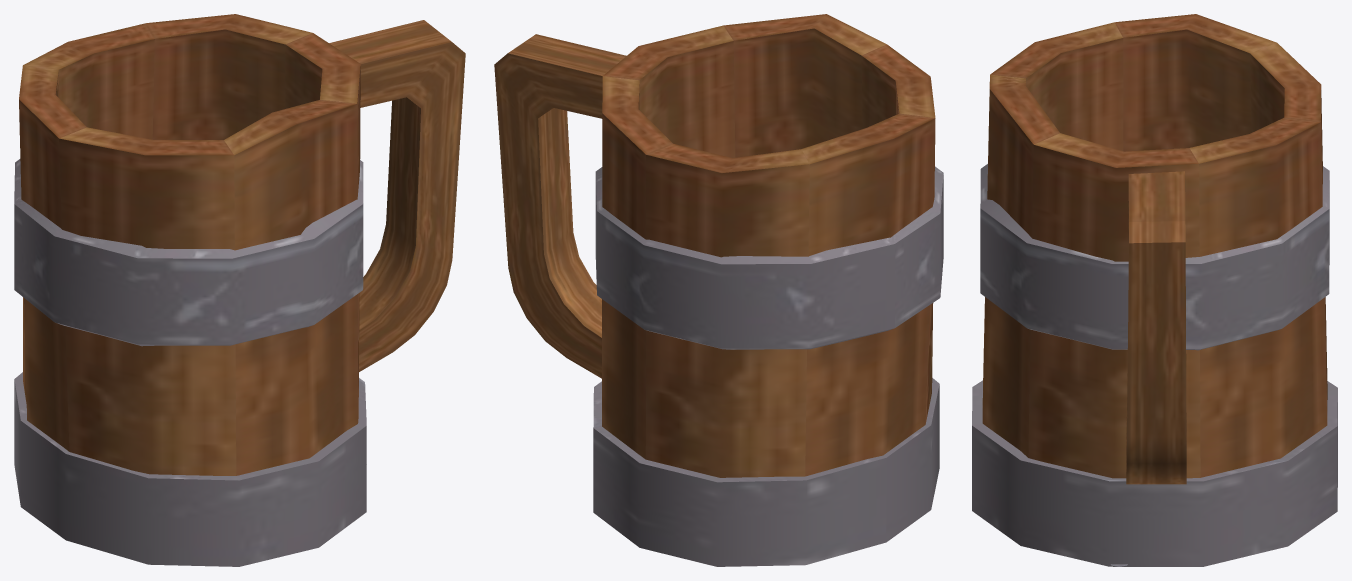
Rendered from prop_mug.glb.
3 views of the same model, side by side, from view 1: azimuth 30°, elevation 25°; view 2: azimuth 150°, elevation 25°; view 3: azimuth 270°, elevation 25° (orthographic). The views are drawn at different scales.
Parts seen in each view (by area): view 1: Cylinder068_1, Cylinder068; view 2: Cylinder068_1, Cylinder068; view 3: Cylinder068_1, Cylinder068.
Part boxes in pixels (x1,y1,x2,y2): Cylinder068_1: (19,14,465,475); Cylinder068: (14,159,366,566); Cylinder068_1: (494,14,935,477); Cylinder068: (593,166,943,566); Cylinder068_1: (982,14,1327,484); Cylinder068: (972,164,1337,566).
Bounding box in the file's own units: 0.1921 × 0.1839 × 0.1468.
Materials: 2 (2 with a texture image).
